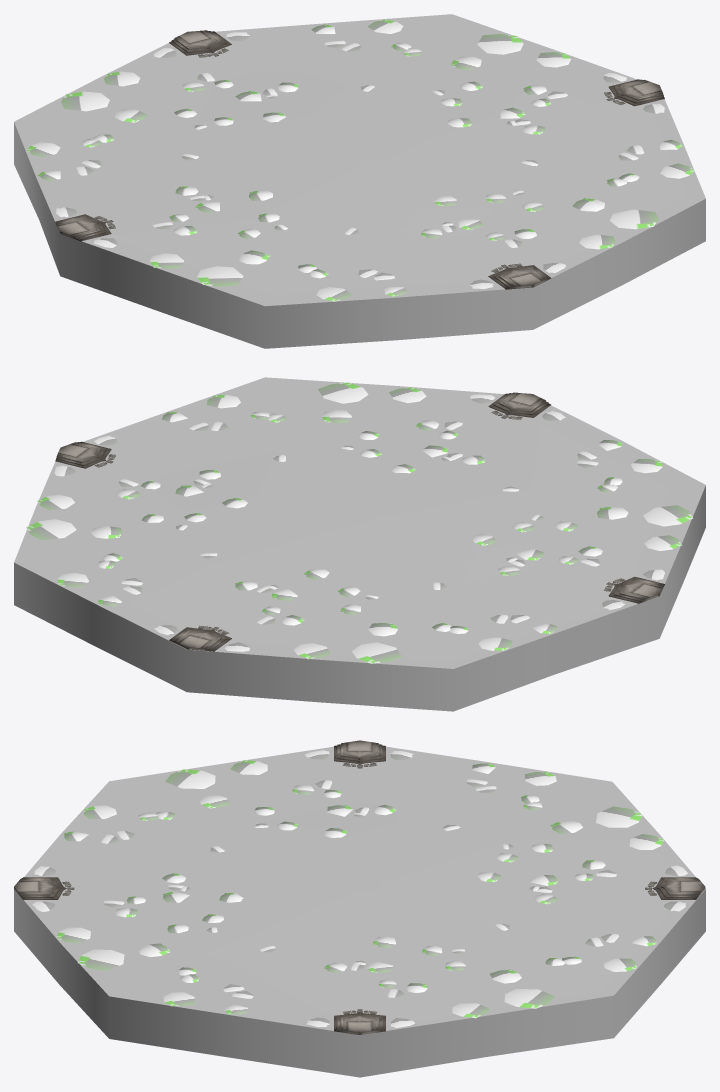
The model's file is stage.fbx.
3 renders of one model, top to bottom at view 1: azimuth 30°, elevation 25°; view 2: azimuth 150°, elevation 25°; view 3: azimuth 270°, elevation 25°, orthographic.
Visible parts, largest first — view 1: stage; view 2: stage; view 3: stage.
Part boxes in pixels (x1=…): stage: x1=14, y1=14, x2=705, y2=348; stage: x1=14, y1=377, x2=705, y2=711; stage: x1=14, y1=740, x2=705, y2=1077.
Bounding box in the file's own units: 5370 × 415 × 5372.
